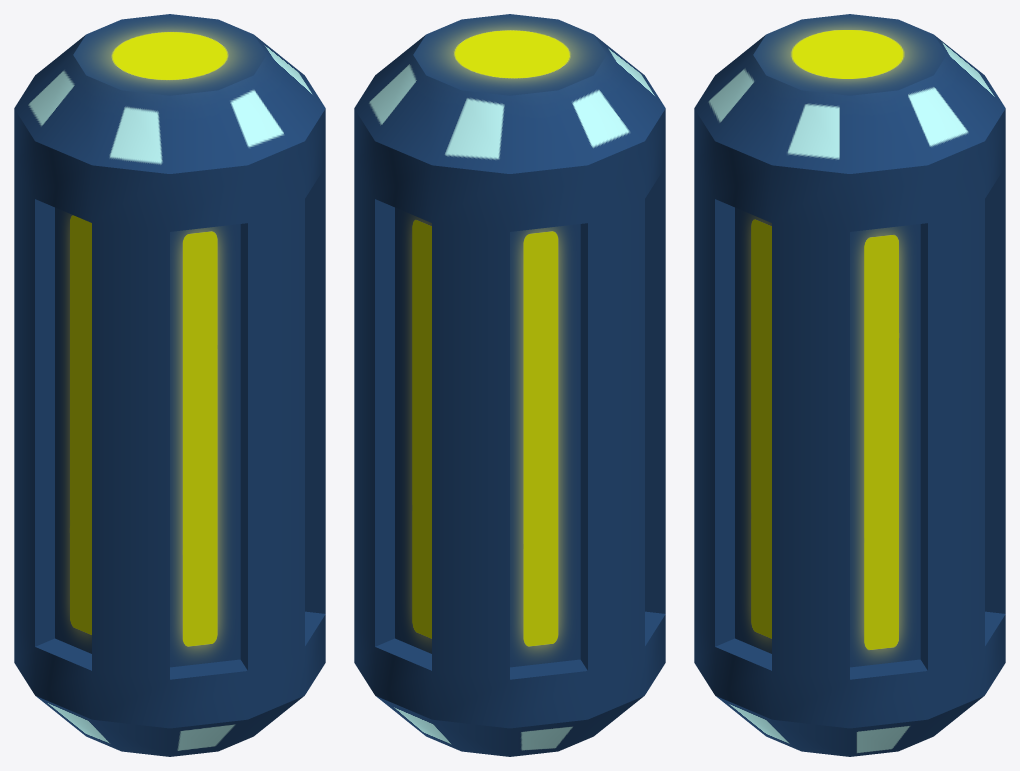
Rendered from ITSW_Engine.FBX.
The picture shows the model from 3 angles, left to right: view 1: azimuth 30°, elevation 25°; view 2: azimuth 150°, elevation 25°; view 3: azimuth 270°, elevation 25°; orthographic projection.
Parts seen in each view (by area): view 1: ITSW_Engine; view 2: ITSW_Engine; view 3: ITSW_Engine.
Boxes of the visible parts, left/top/right/bottom form: ITSW_Engine: left=14, top=14, right=325, bottom=756; ITSW_Engine: left=354, top=14, right=665, bottom=756; ITSW_Engine: left=694, top=14, right=1005, bottom=756.
Size of the model in its own units: 0.6532 by 1.53 by 0.6532.
